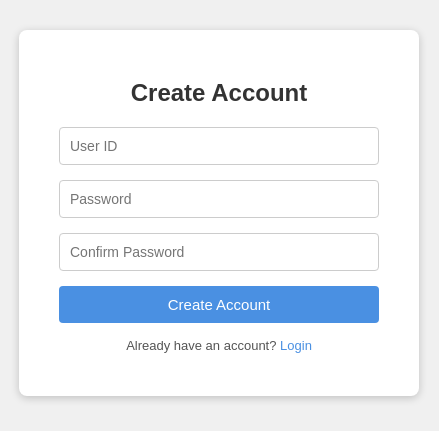
Test case: CreateAccount Component › shows a friendly message when account creation fails
The width and height of the screenshot is (439, 431).
Type "alice" into the field with placeholder "User ID" at (219, 146), box [59,128,379,166]
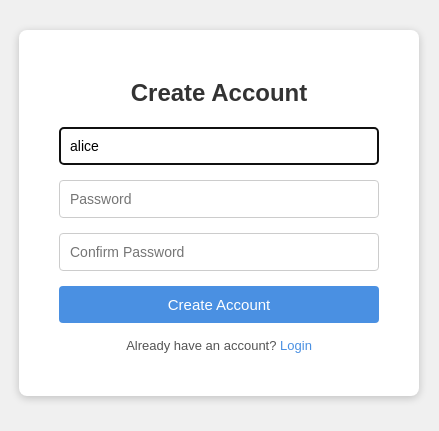
Type "pass123" into the password field with placeholder "Password" at (219, 200), box [59,180,379,218]
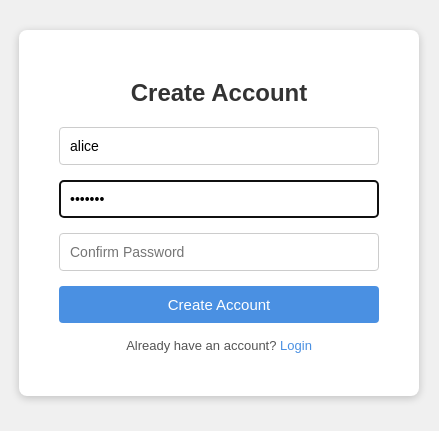
Type "pass123" into the password field with placeholder "Confirm Password" at (219, 252), box [59,234,379,272]
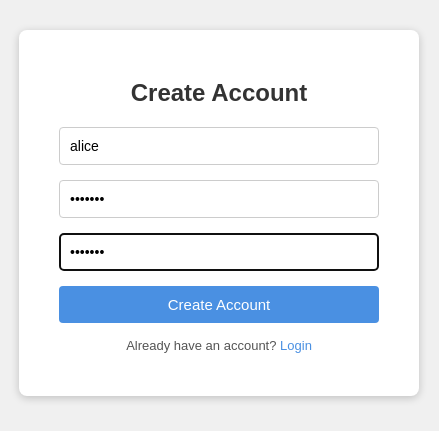
Click the button "Create Account" at (219, 305), box [59,286,379,324]
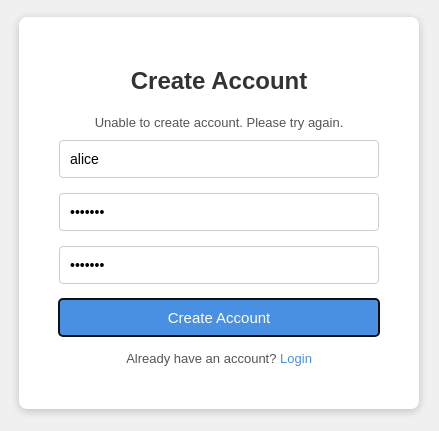
Expected: the text "Unable to create account. Please try again." is shown, [95,115,343,130]
